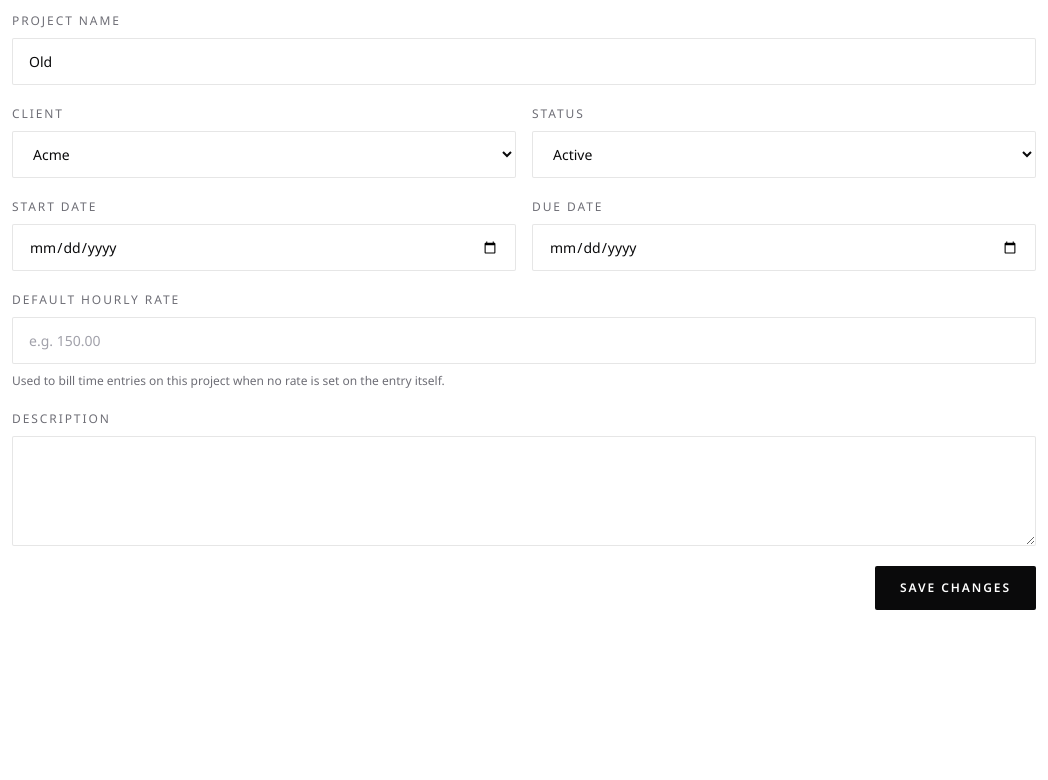
ProjectForm › edits an existing project and shows the success message
The width and height of the screenshot is (1048, 780).
Replace the text in the field labelled "Project name" with "Renamed". click: (524, 62)
box: [12,38,1036,85]
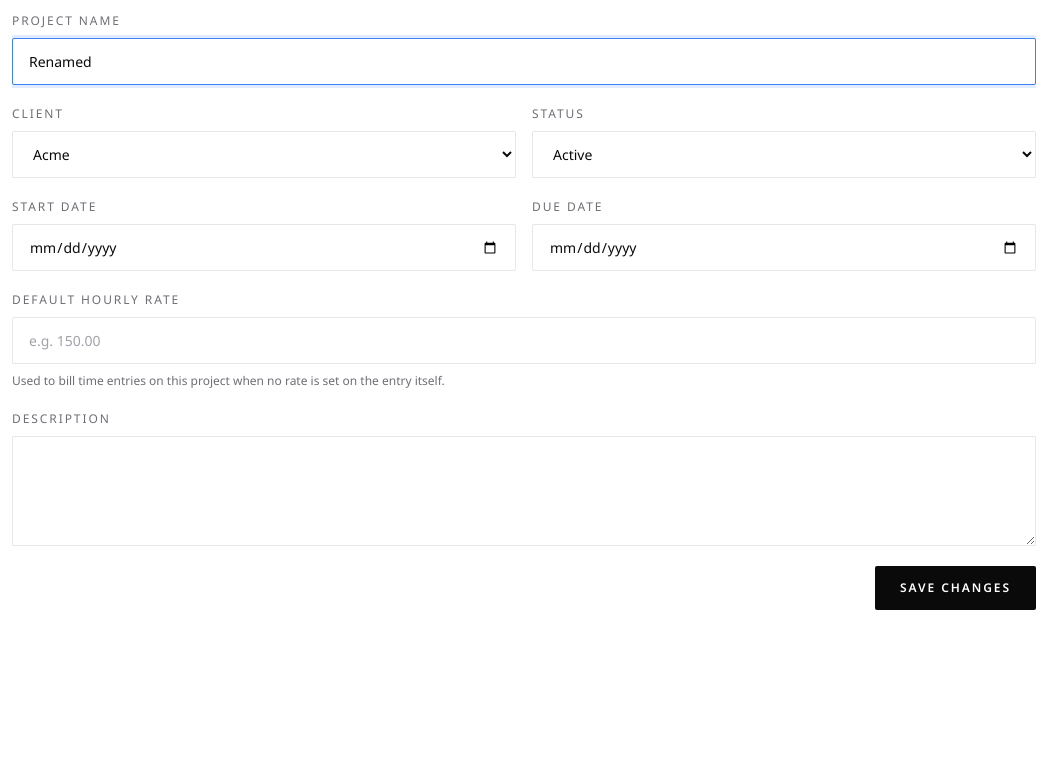
Click the button "Save changes". click: (956, 588)
box: [875,566,1036,610]
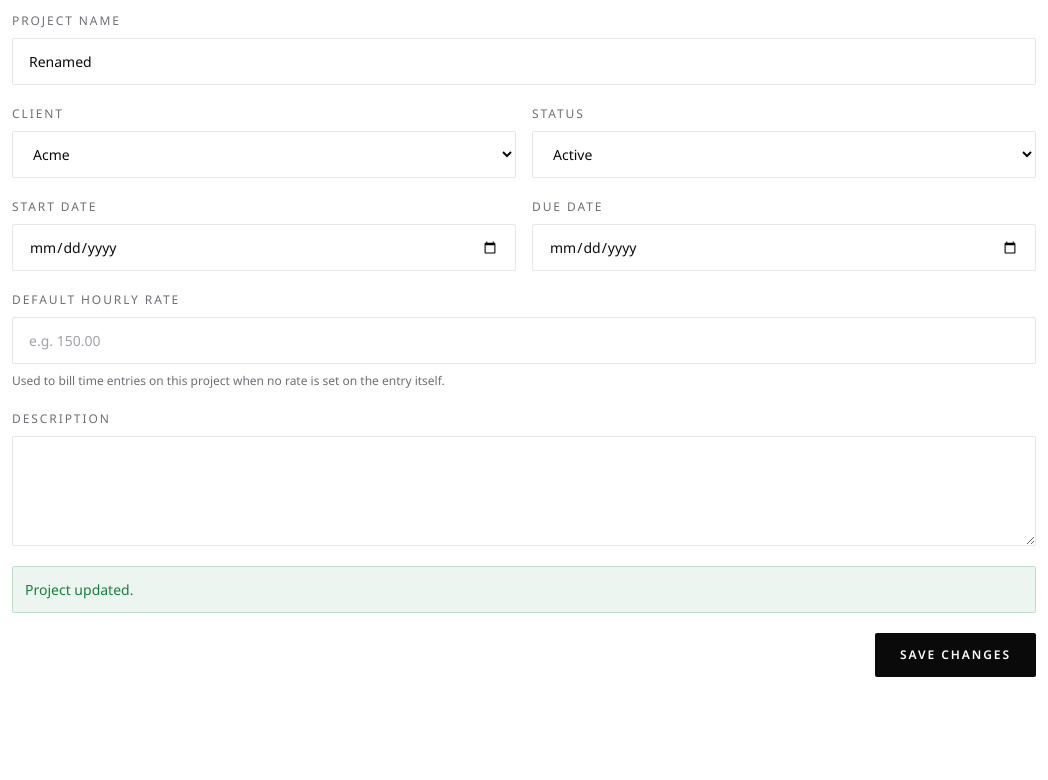
expect the text "Project updated." is shown: met, box [12,566,1036,613]
